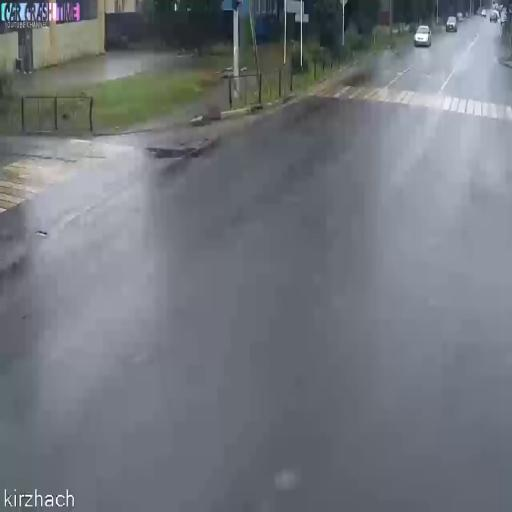小汽车: (413, 20, 435, 52), (445, 11, 457, 34)
